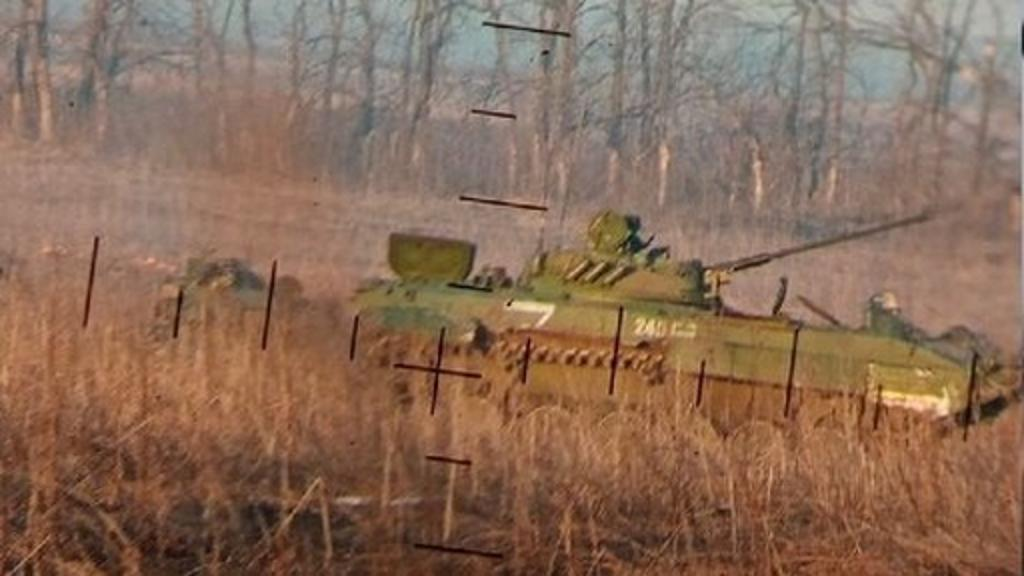APC-IFV: (348, 198, 1004, 452)
